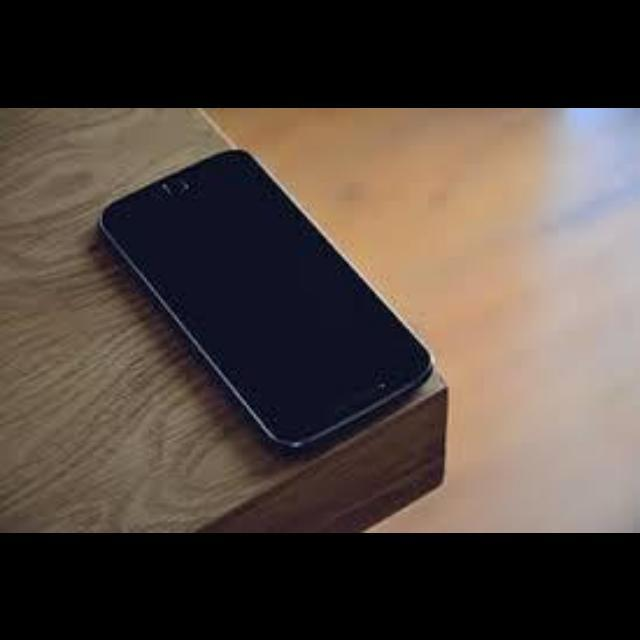Phone: (100, 150, 436, 460)
